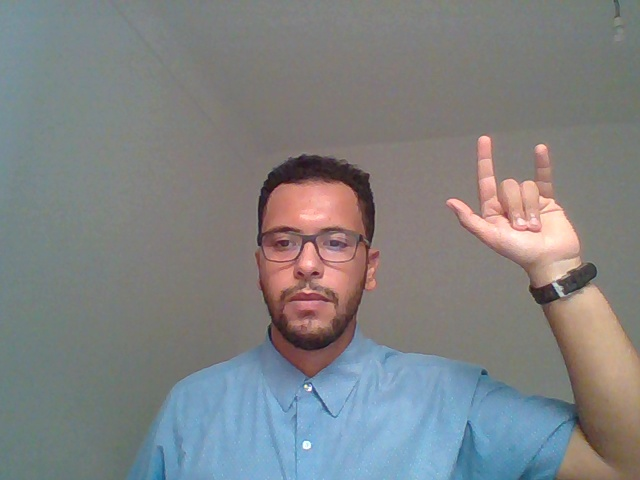iloveyou: (439, 110, 614, 410)
